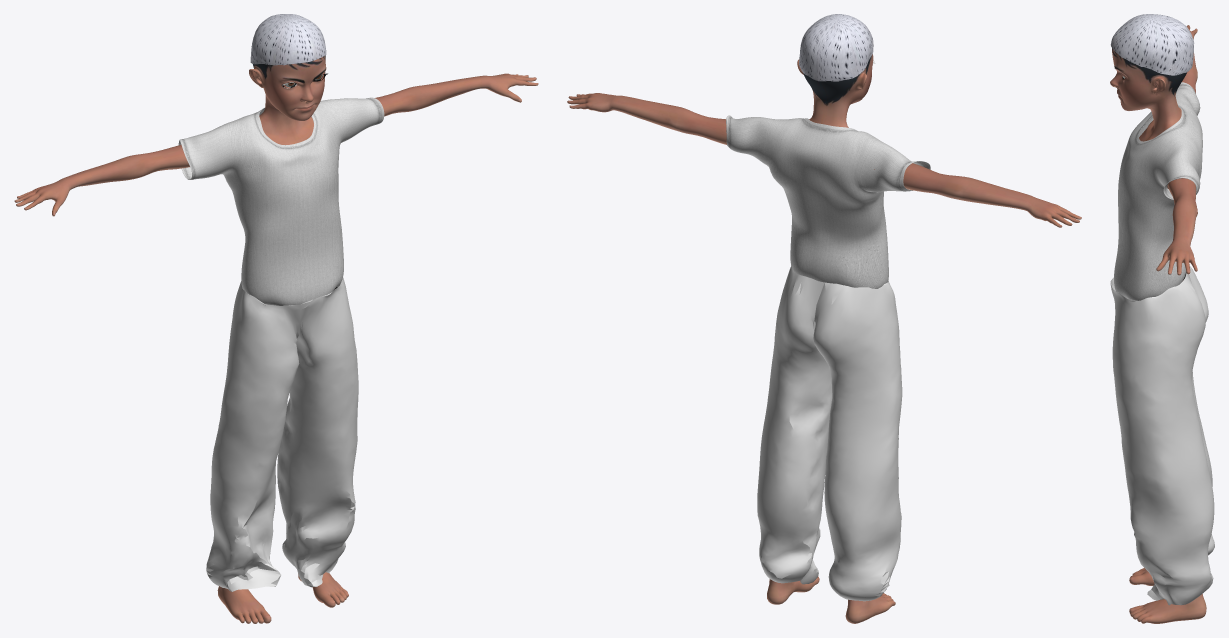
File: A Boyaaq.fbx
3 views of the same model, side by side, from view 1: azimuth 30°, elevation 25°; view 2: azimuth 150°, elevation 25°; view 3: azimuth 270°, elevation 25° (orthographic).
Visible parts, largest first — view 1: boy2, TShirt, Body, Sphere; view 2: boy2, TShirt, Body, Sphere; view 3: boy2, TShirt, Body, Sphere.
Boxes of the visible parts, x1,y1,x2,y2 form: boy2: [206, 74, 358, 591]; TShirt: [178, 97, 384, 305]; Body: [14, 46, 538, 623]; Sphere: [250, 14, 326, 65]; boy2: [757, 266, 902, 601]; TShirt: [726, 115, 930, 288]; Body: [567, 54, 1081, 623]; Sphere: [799, 14, 873, 81]; boy2: [1110, 76, 1214, 605]; TShirt: [1114, 82, 1202, 300]; Body: [1110, 25, 1206, 623]; Sphere: [1110, 14, 1194, 75].
Size of the model in its own units: 15271 by 16593 by 2700.
